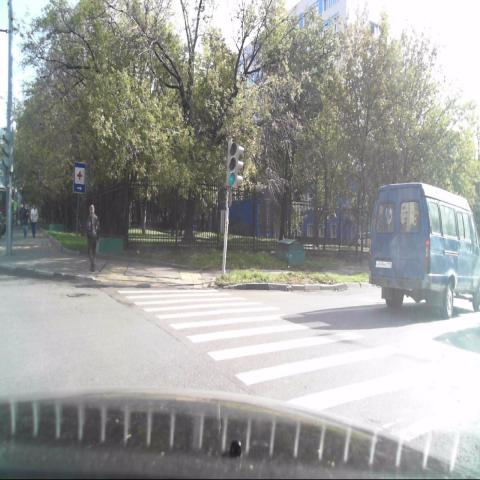7_1: (73, 160, 86, 195)
